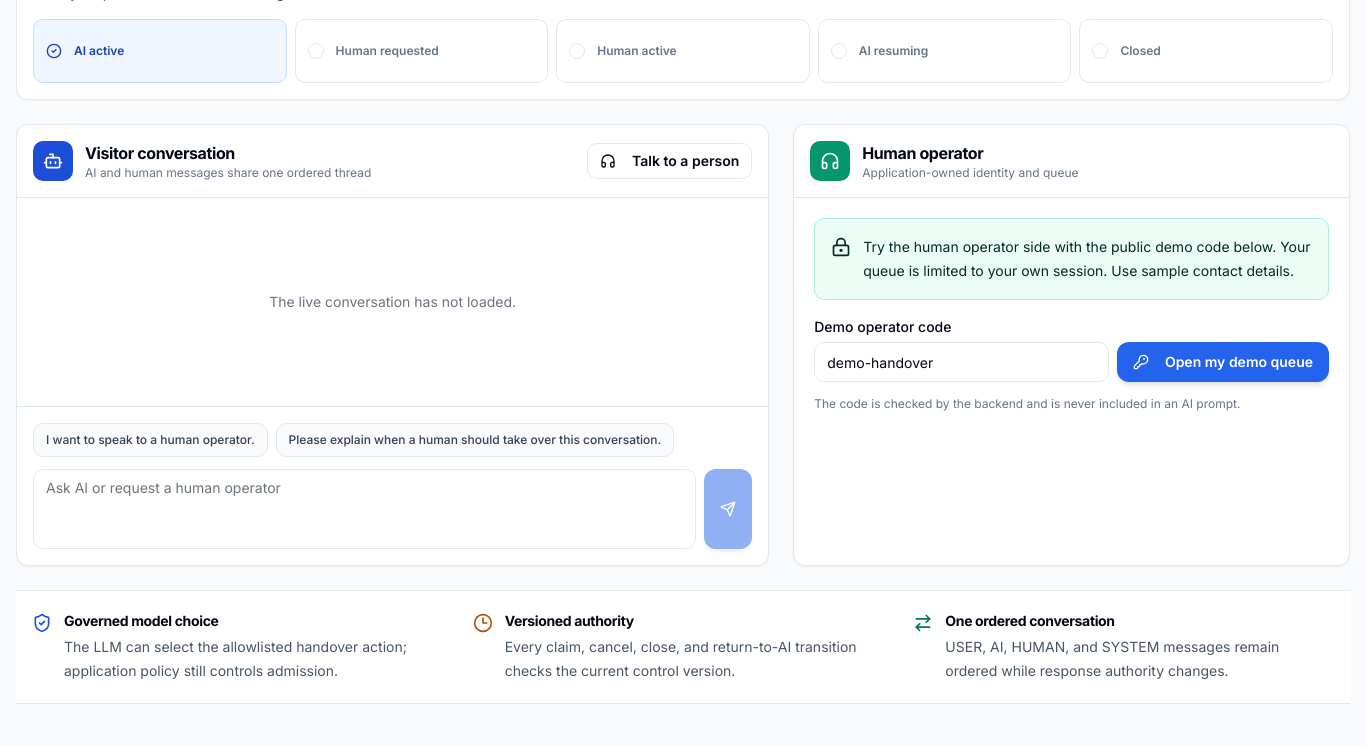
conversation handover public operator › shows the backend-provided public code in plain text and opens the session queue
(page scrolled)
Expected: the field labelled "Demo operator code" holds "demo-handover", [814,342,1109,382]
Expected: the text "Your queue is limited to your own session" is shown, [863,238,1311,279]
Click the button "Open my demo queue".
click(1223, 362)  # box [1117,342,1329,382]
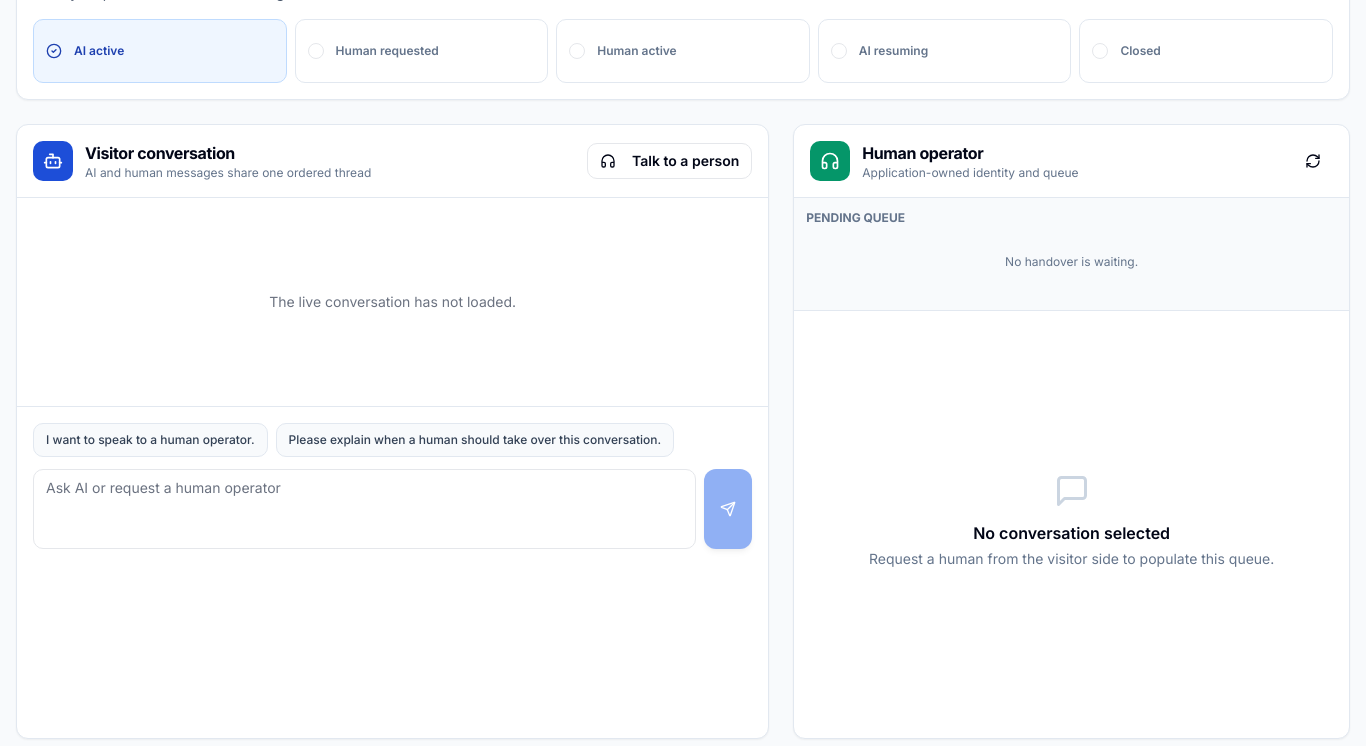
Expected: the text "No conversation selected" is shown, [973,520,1170,544]
